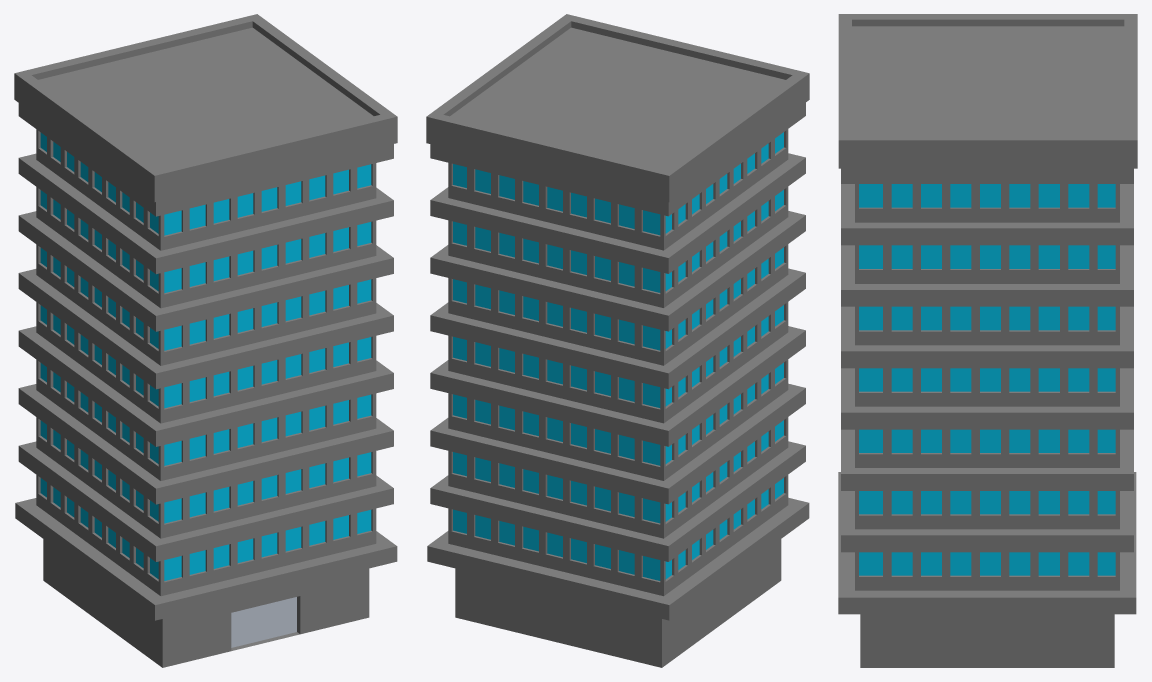
Rendered from building_block.fbx.
3 views of the same model, side by side, from view 1: azimuth 30°, elevation 25°; view 2: azimuth 150°, elevation 25°; view 3: azimuth 270°, elevation 25° (orthographic). The views are drawn at different scales.
Visible parts, largest first — view 1: Plane.001, Plane.002, Plane; view 2: Plane.001, Plane.002, Plane; view 3: Plane.001, Plane.002, Plane.
Part boxes in pixels (<box>): Plane.001: <box>18,103,393,596</box>; Plane.002: <box>14,14,397,202</box>; Plane: <box>15,498,397,667</box>; Plane.001: <box>430,102,805,596</box>; Plane.002: <box>426,14,809,202</box>; Plane: <box>427,497,809,667</box>; Plane.001: <box>841,168,1133,590</box>; Plane.002: <box>838,14,1137,168</box>; Plane: <box>838,472,1136,667</box>.
Size of the model in its own units: 470 by 932 by 470.
